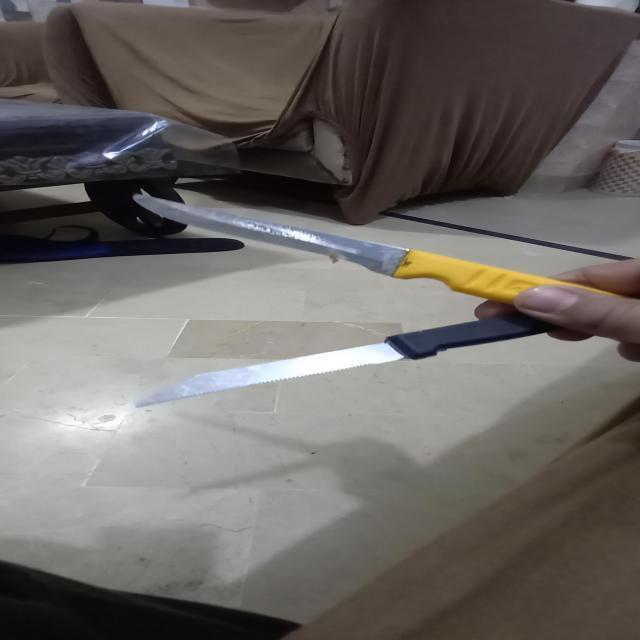knife: (124, 188, 640, 318), (124, 306, 640, 420)
